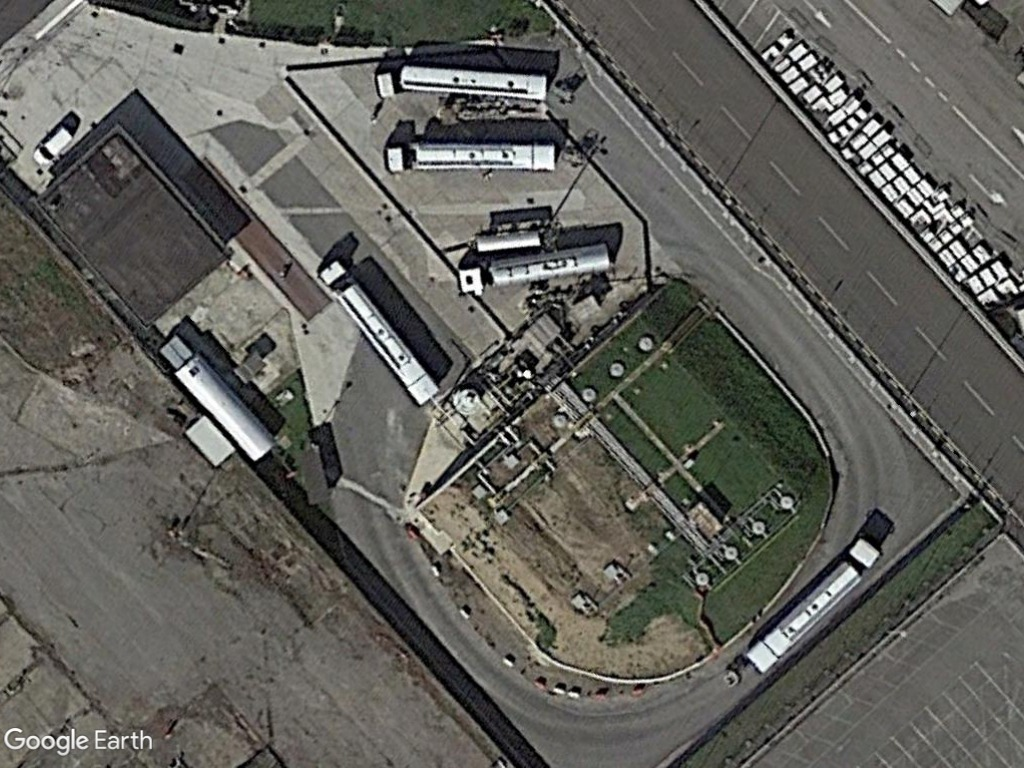longvehicle: (730, 530, 887, 677), (316, 259, 443, 408), (162, 334, 280, 462), (373, 56, 553, 107), (457, 241, 615, 298), (383, 136, 562, 176)
van: (30, 123, 77, 170)
